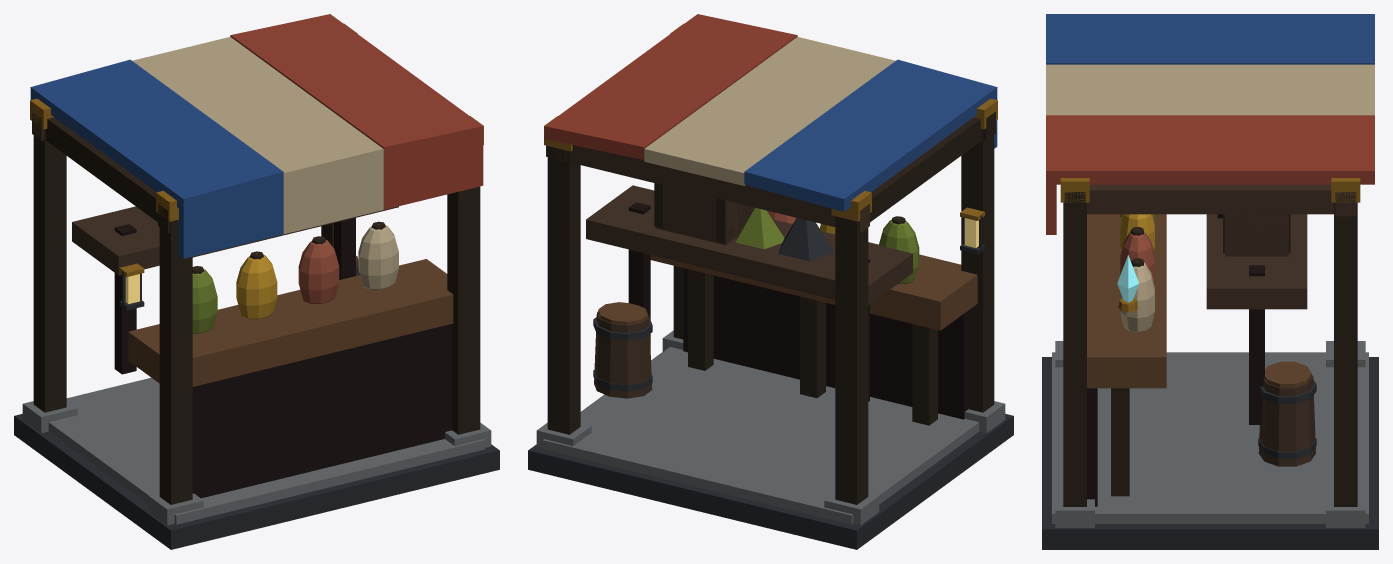
File: eastbrook_market_stall.glb
The picture shows the model from 3 angles, left to right: view 1: azimuth 30°, elevation 25°; view 2: azimuth 150°, elevation 25°; view 3: azimuth 270°, elevation 25°; orthographic projection. The views are drawn at different scales.
Parts seen in each view (by area): view 1: EastbrookMarketStall_TownOpaque; view 2: EastbrookMarketStall_TownOpaque; view 3: EastbrookMarketStall_TownOpaque, EastbrookMarketStall_TownEmissive.
Part boxes in pixels (<box>): EastbrookMarketStall_TownOpaque: <box>14,14,499,549</box>; EastbrookMarketStall_TownOpaque: <box>528,14,1013,549</box>; EastbrookMarketStall_TownOpaque: <box>1042,14,1378,549</box>; EastbrookMarketStall_TownEmissive: <box>1117,255,1139,302</box>.
Bounding box in the file's own units: 2.8 × 2.7 × 2.2.
